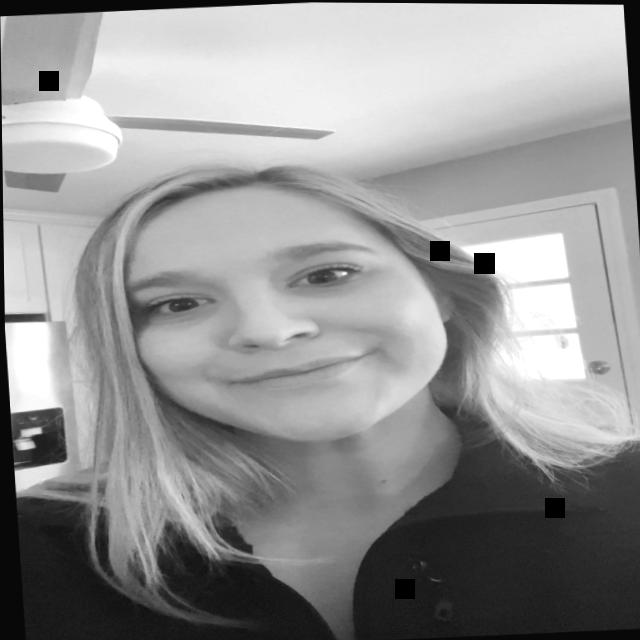NO-Mask: (100, 170, 475, 491)
